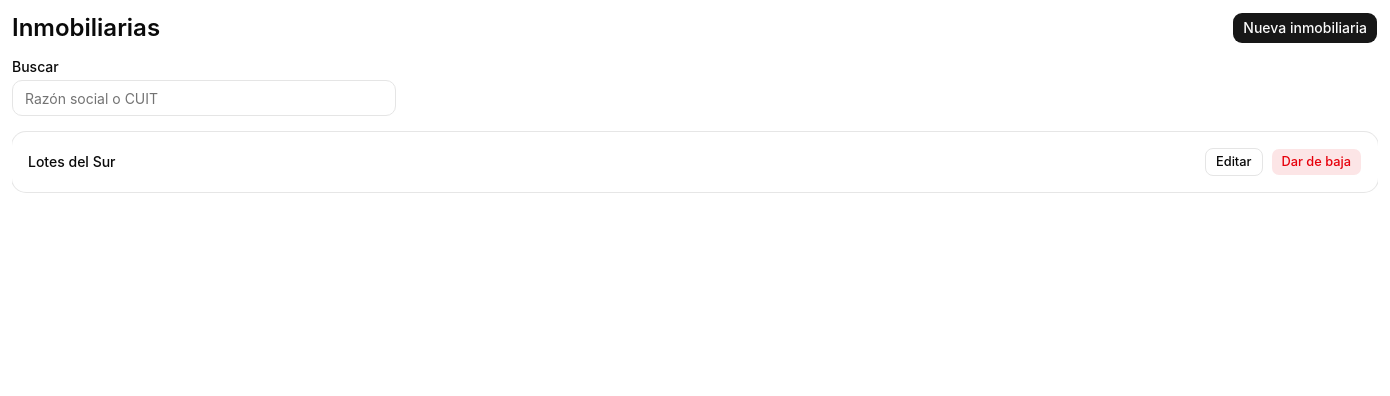
Test: AgenciesPage › edits an existing agency
expect the text "Lotes del Sur" is shown: met, box [28,152,116,172]
Click the button "Editar": x=1234, y=162 [1205,148,1262,176]
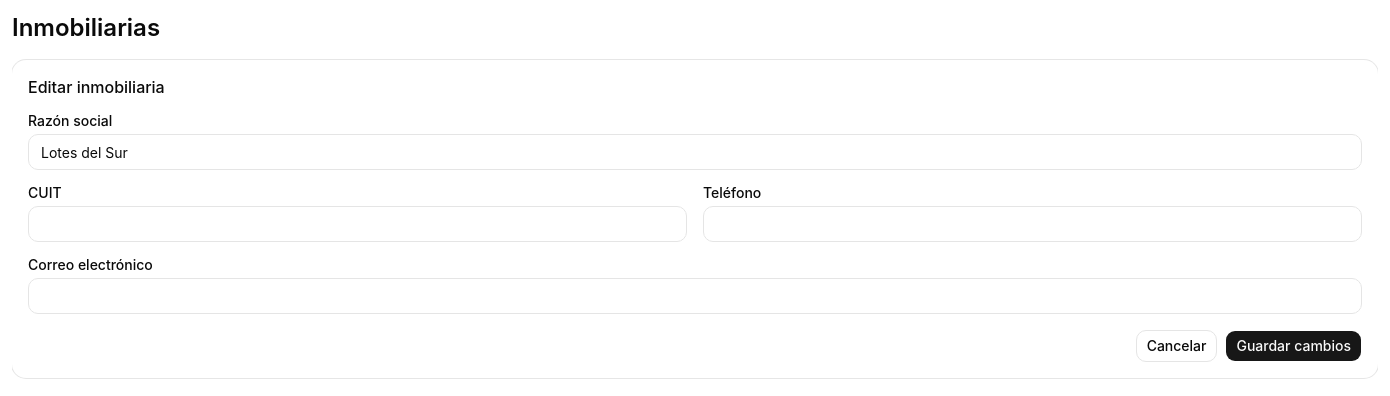
Replace the text in the field labelled "Razón social" with "Lotes del Sur SRL": x=695, y=152 [28,134,1362,170]
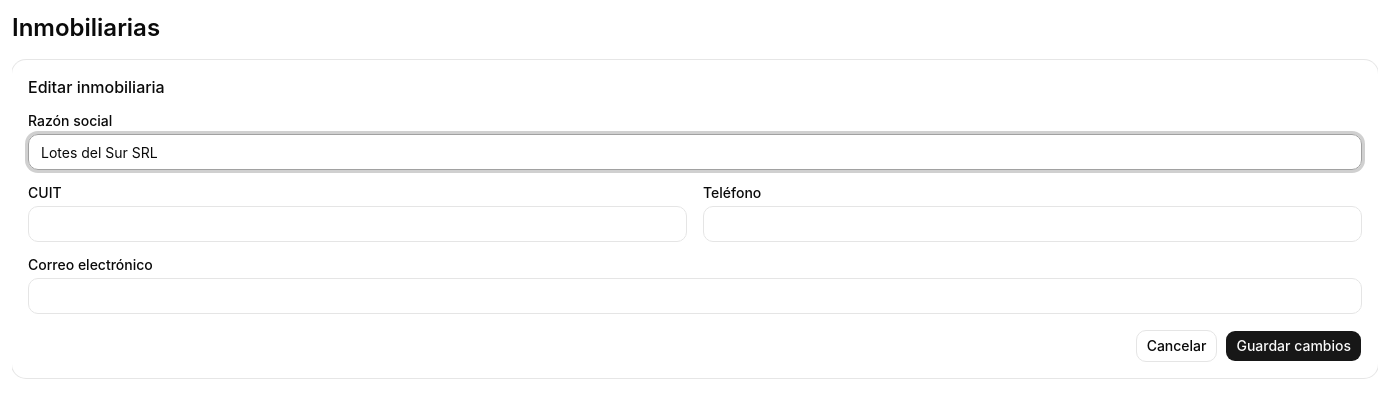
Click the button "Guardar cambios": x=1294, y=346 [1226,330,1362,362]
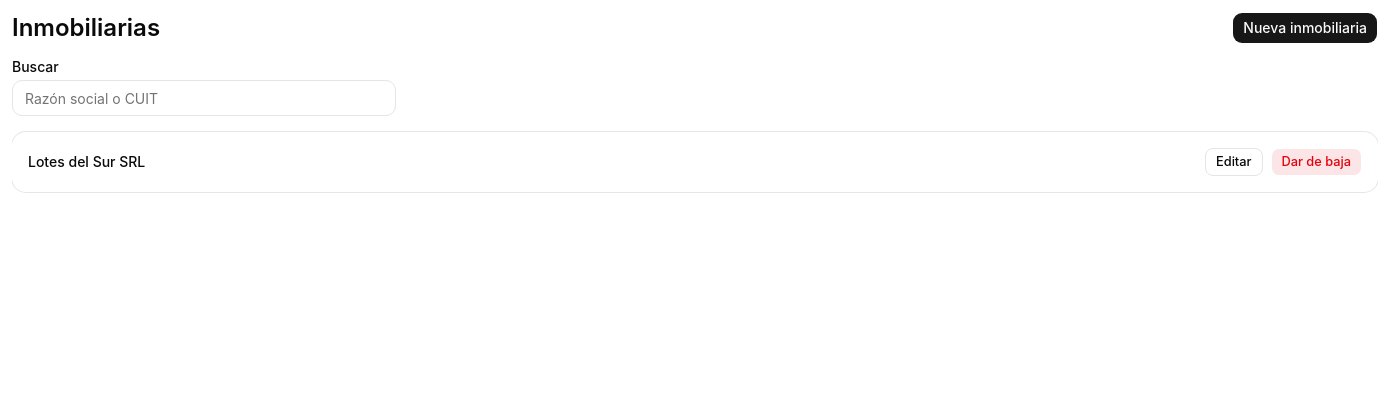
expect the text "Lotes del Sur SRL" is shown: met, box [28,152,145,172]
